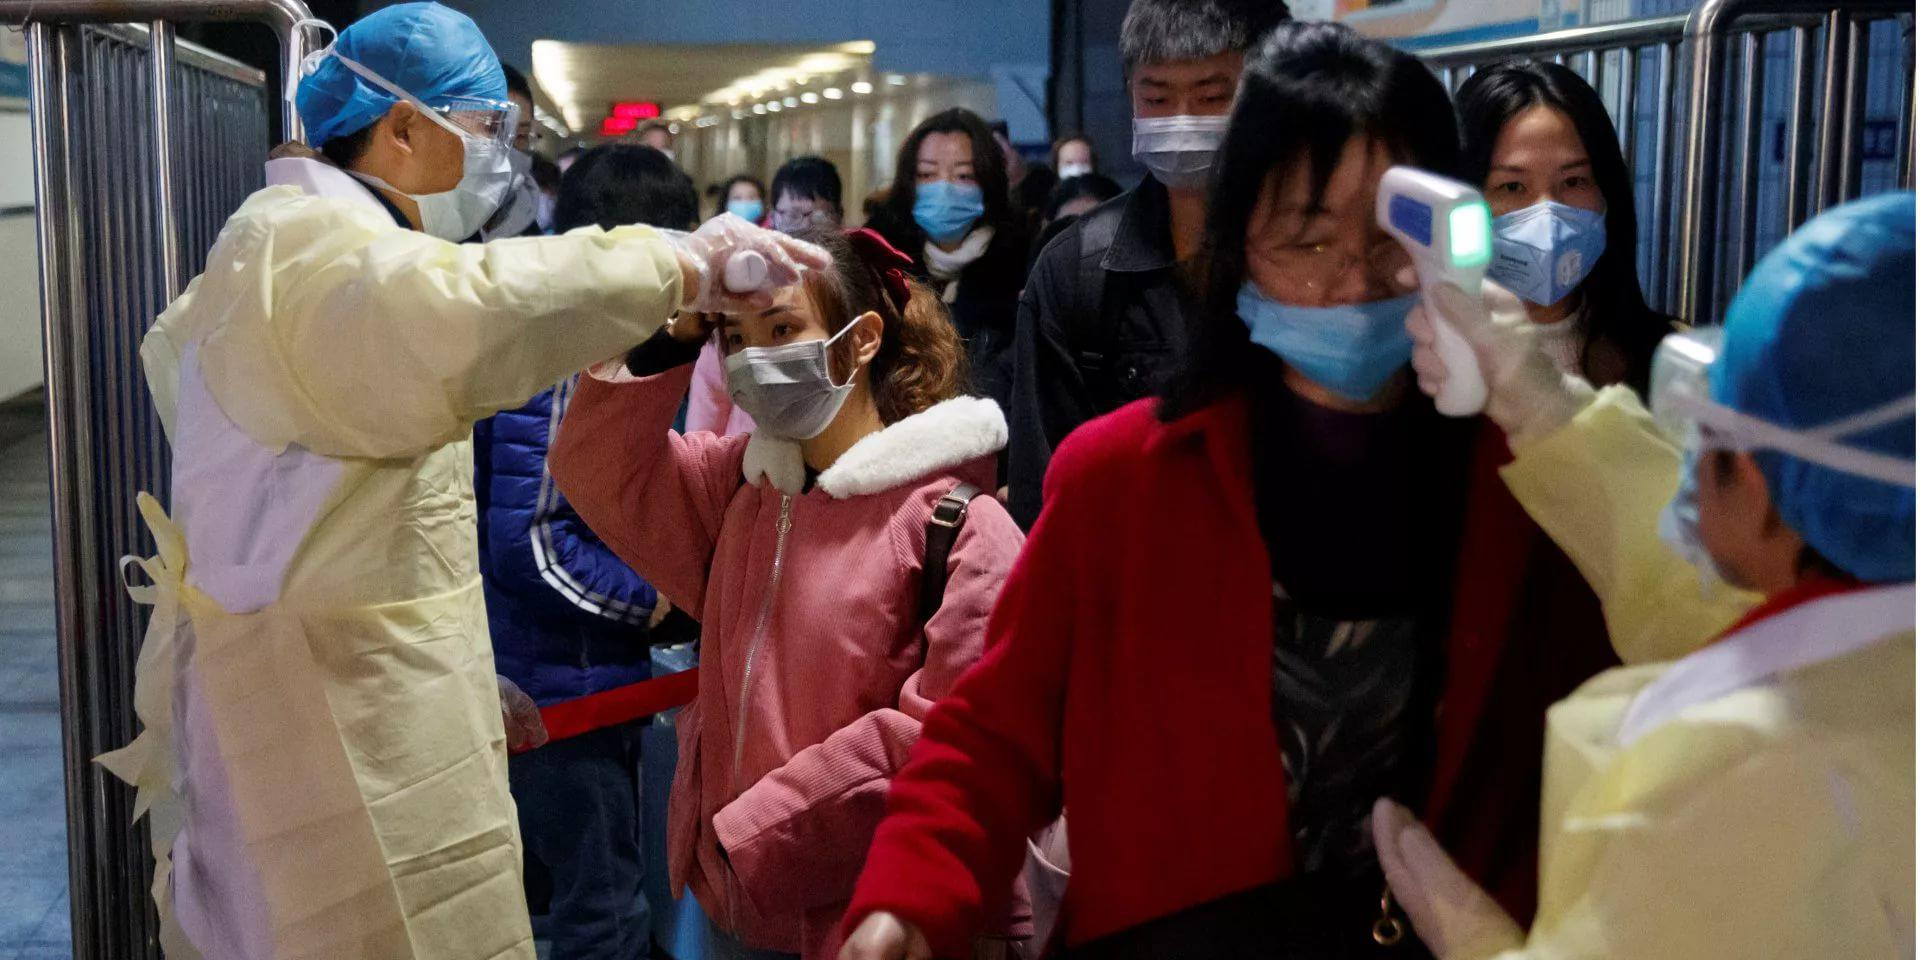mask: (1476, 98, 1618, 304), (382, 75, 527, 249), (722, 273, 860, 443), (1127, 36, 1251, 189), (911, 125, 984, 241), (721, 175, 764, 222)
poor: (1227, 100, 1442, 400)
